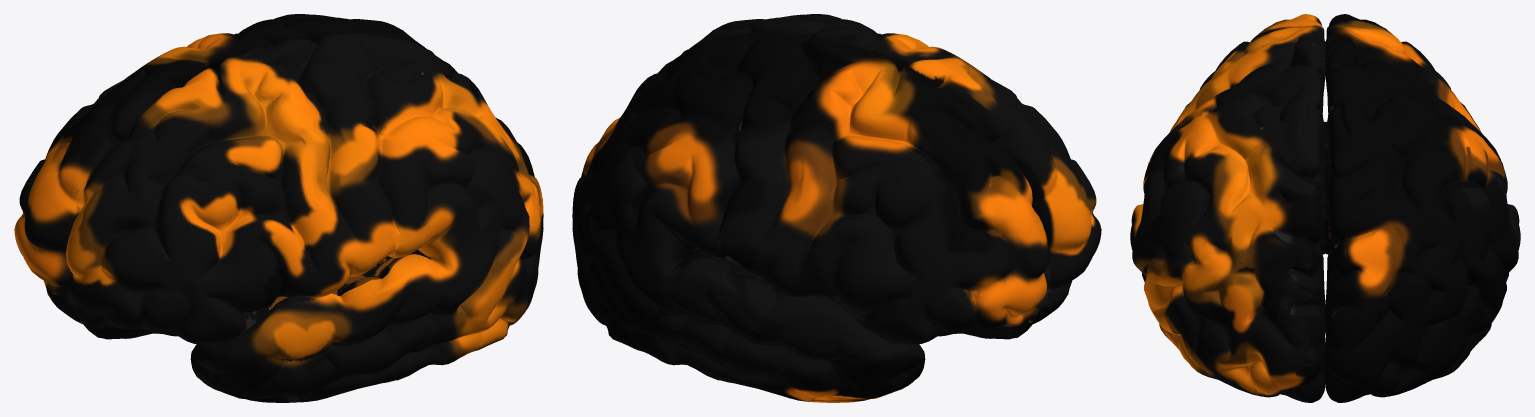
File: mathComp.glb
The picture shows the model from 3 angles, left to right: view 1: azimuth 30°, elevation 25°; view 2: azimuth 150°, elevation 25°; view 3: azimuth 270°, elevation 25°; orthographic projection. The views are drawn at different scales.
Parts seen in each view (by area): view 1: Right, Left; view 2: Left, Right; view 3: Left, Right.
Boxes of the visible parts, x1,y1,x2,y2 form: Right: [66, 32, 543, 402]; Left: [14, 14, 457, 336]; Left: [572, 32, 1049, 402]; Right: [658, 14, 1101, 336]; Left: [1325, 14, 1520, 402]; Right: [1130, 14, 1325, 402].
Bounding box in the file's own units: 1.32 × 0.8372 × 1.06.
2 materials, 2 textured.
